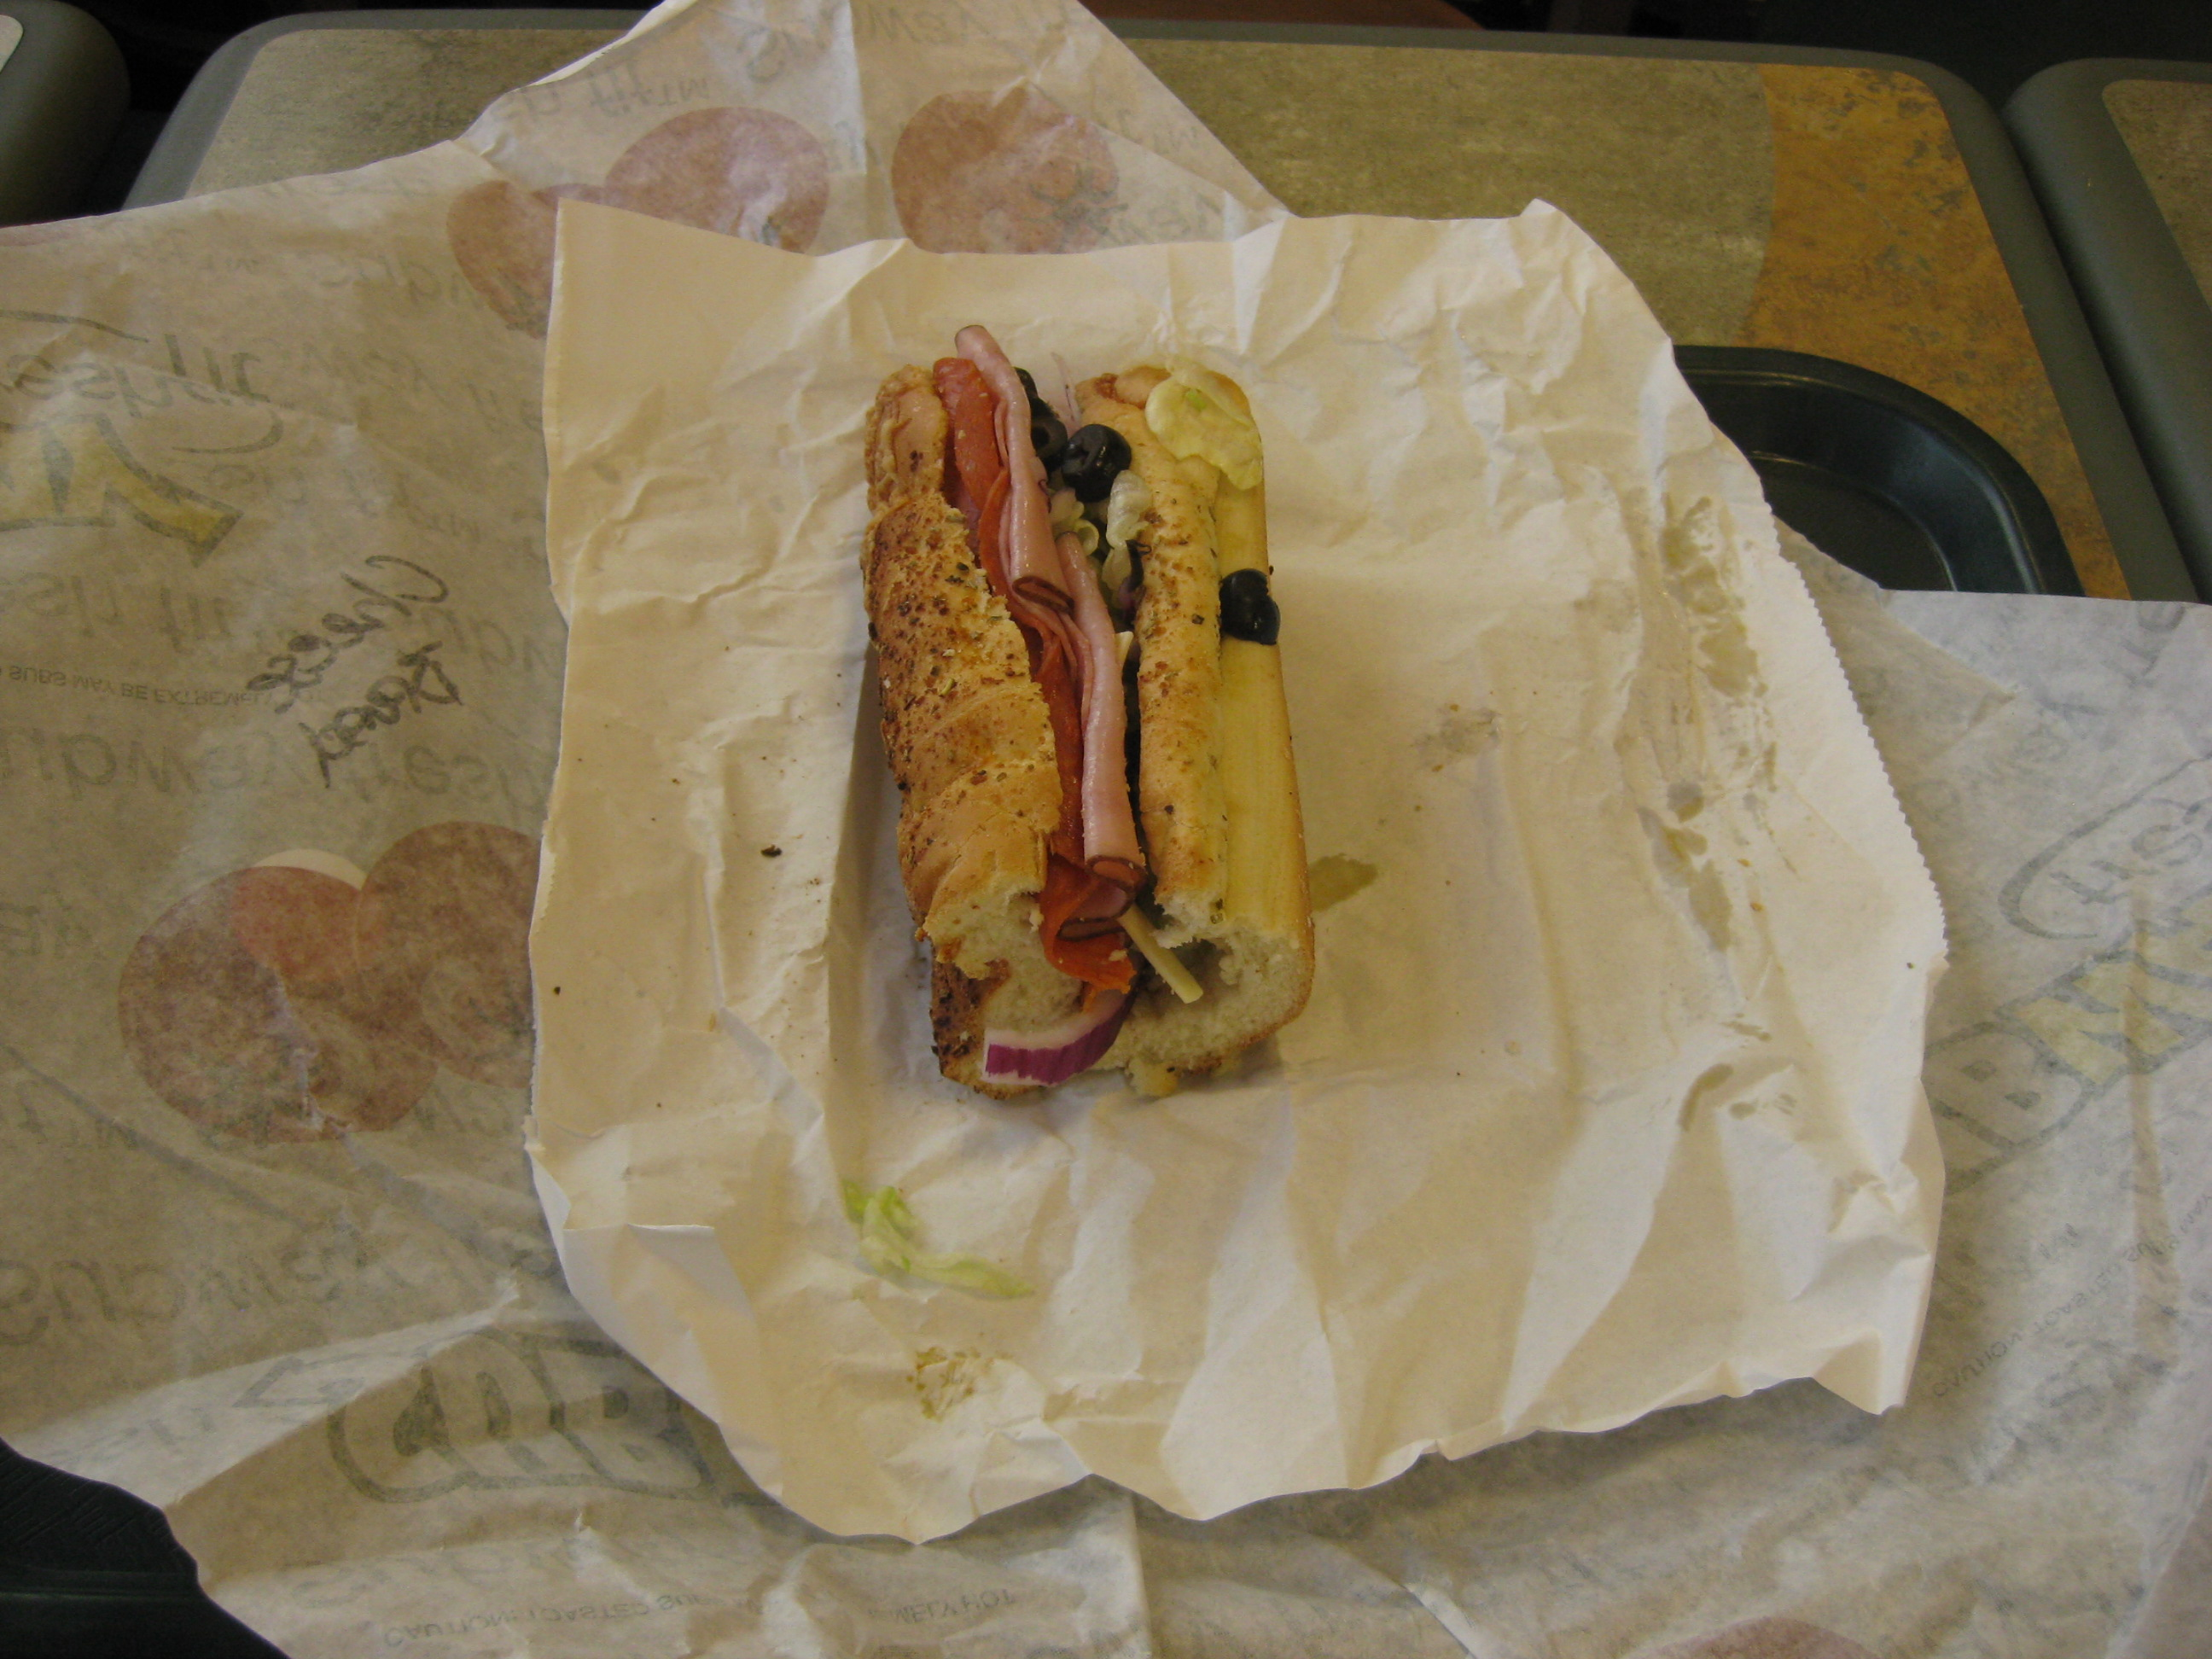sub: (831, 307, 1338, 1107)
